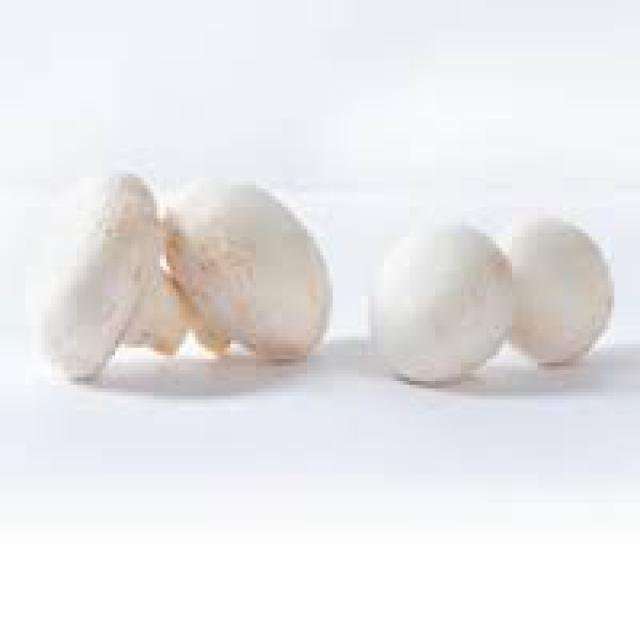Agaricus bisporus: (22, 164, 188, 378), (164, 184, 333, 374), (369, 223, 512, 394), (493, 210, 618, 370)
